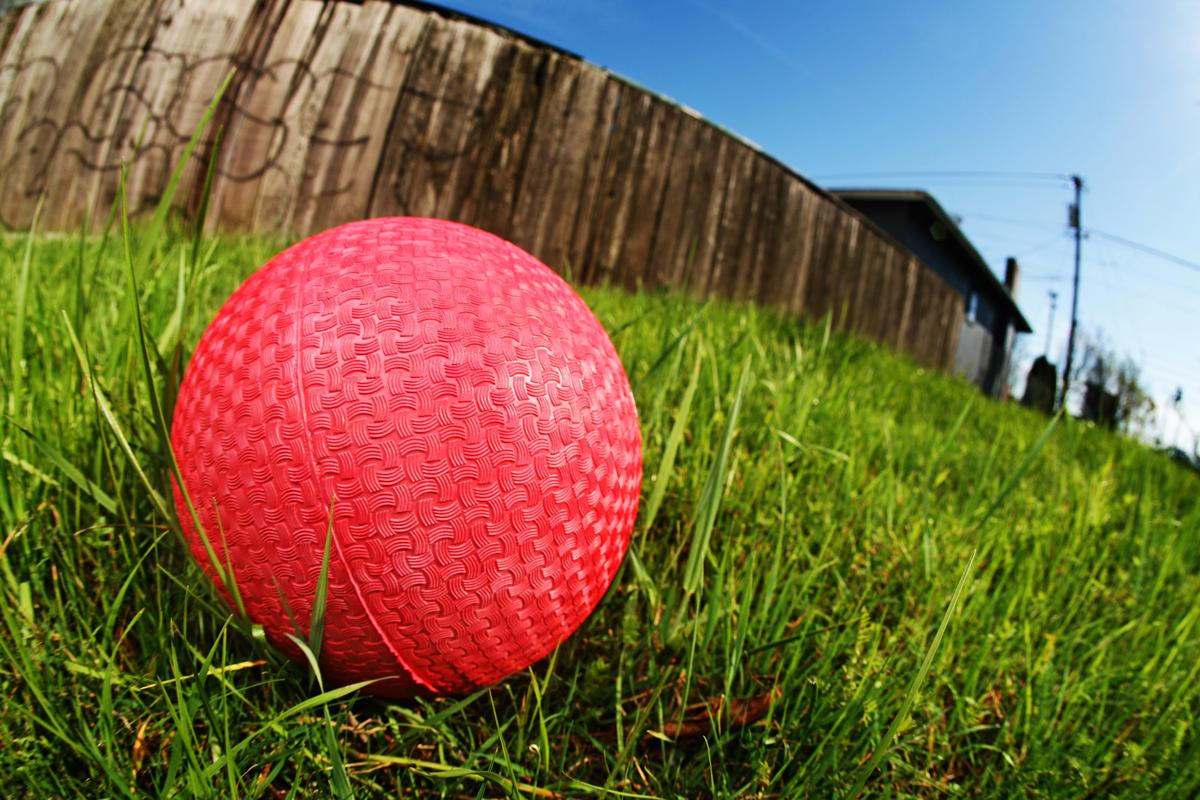red ball: (165, 210, 650, 698)
